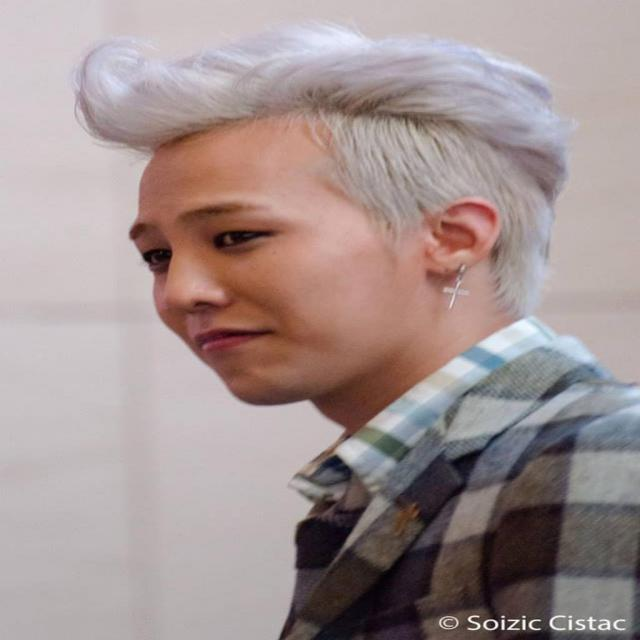nomask: (129, 116, 417, 406)
